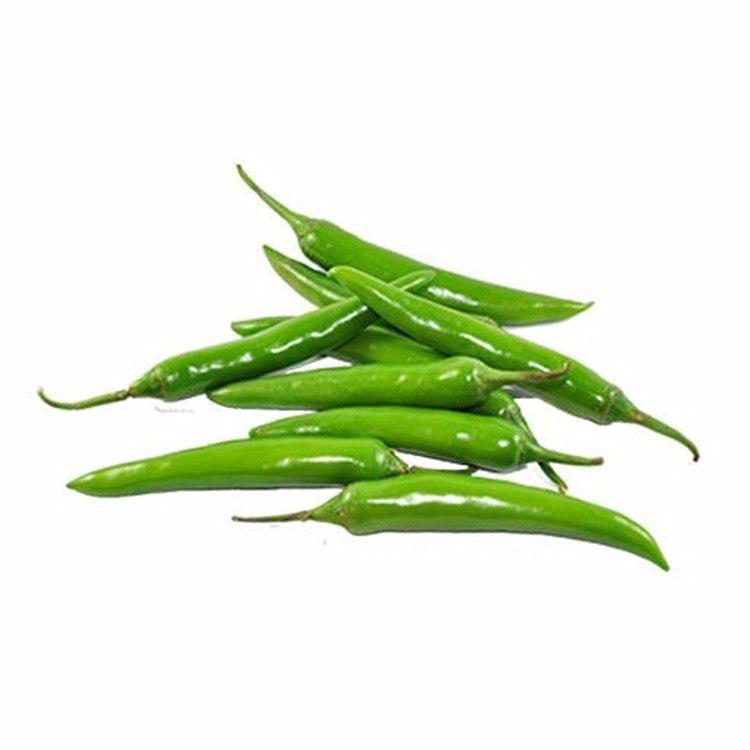lada hijau: (351, 265, 640, 432), (273, 193, 603, 336), (325, 461, 686, 591), (120, 273, 427, 405), (251, 393, 560, 478), (68, 432, 395, 505), (198, 356, 516, 411)
